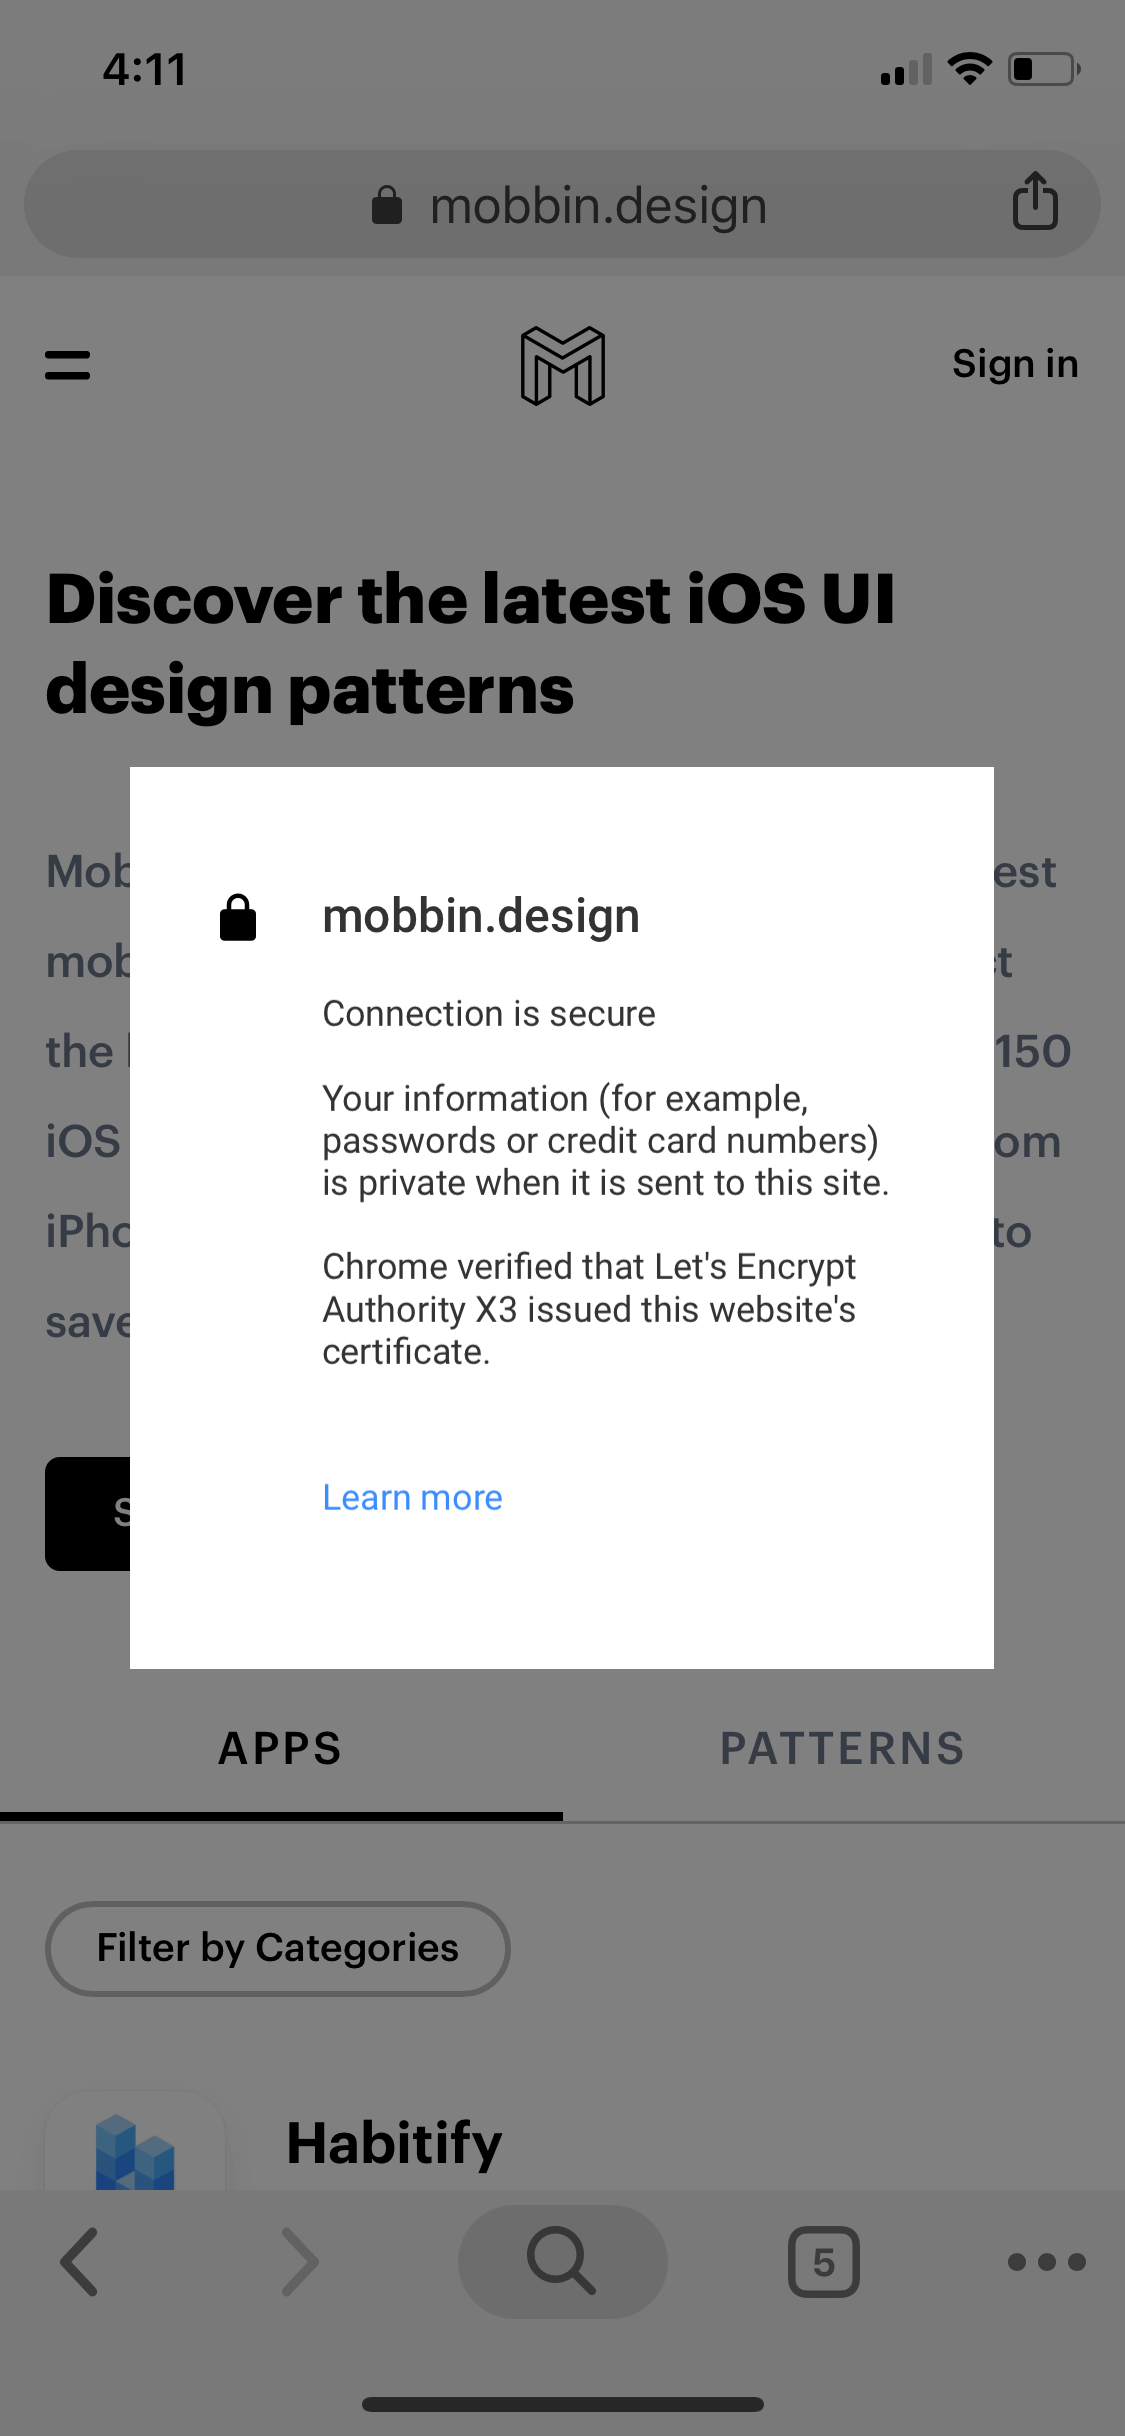Buttons: (37, 1877, 524, 2013), (273, 1442, 553, 1558), (921, 289, 1109, 433), (2, 287, 138, 433)
